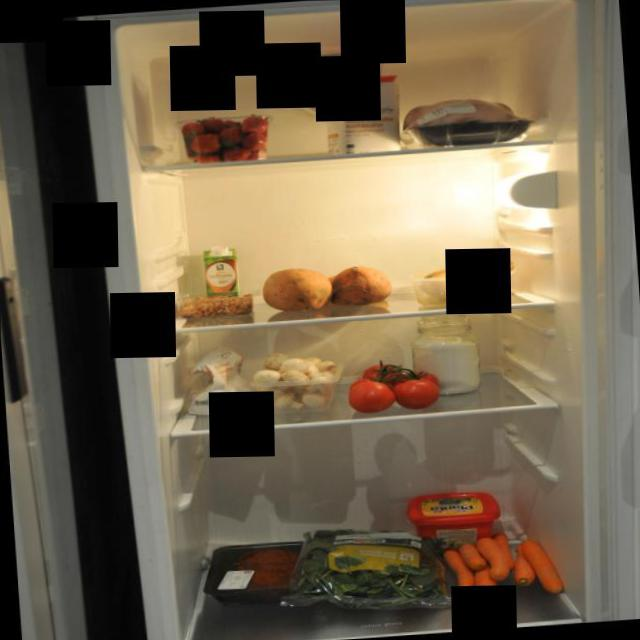Carne pollo: (399, 93, 535, 151)
Carne vacuno: (198, 537, 328, 610)
Champiñones: (248, 348, 340, 415)
Gambas/Langostinos: (172, 292, 258, 322)
Mantequilla: (402, 487, 506, 551)
Patata: (413, 254, 521, 306)
Tomate: (340, 352, 444, 416)
Zanahoria: (438, 526, 566, 603)
